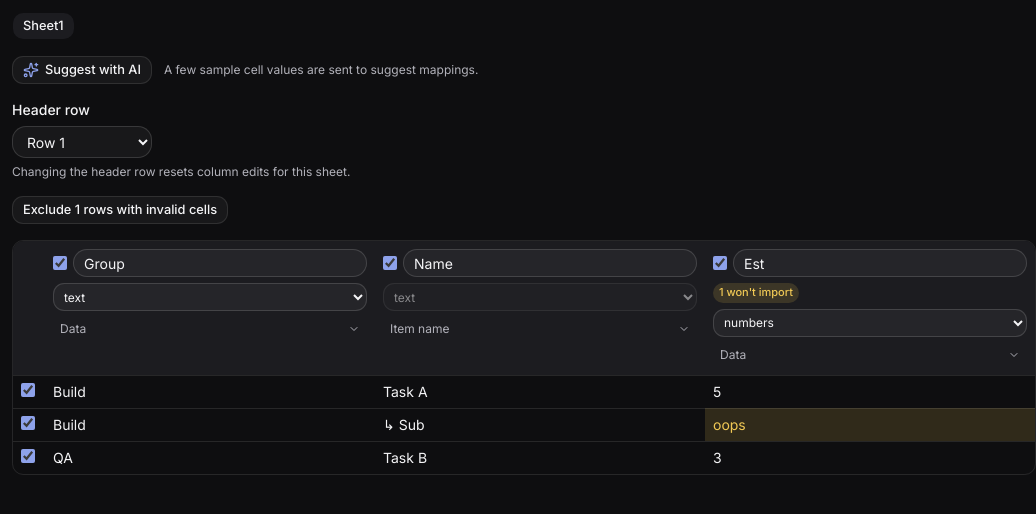
Scenario: MapStep AI suggestions › shows an alert when the suggestion action fails
The image size is (1036, 514).
Click the button "Suggest with AI".
click(82, 70)  # box x1=12 y1=56 x2=152 y2=84
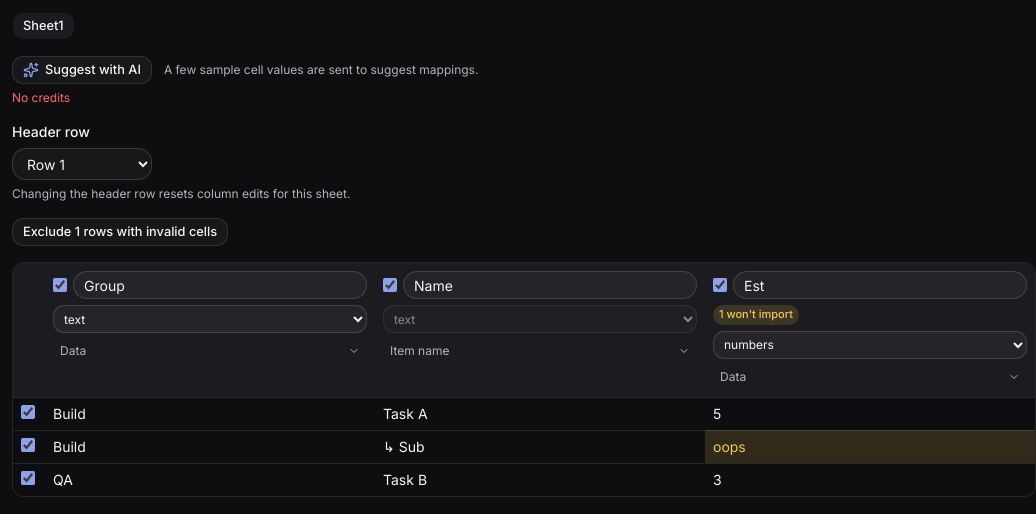
expect the message reads "No credits": met, box x1=12 y1=90 x2=70 y2=105
